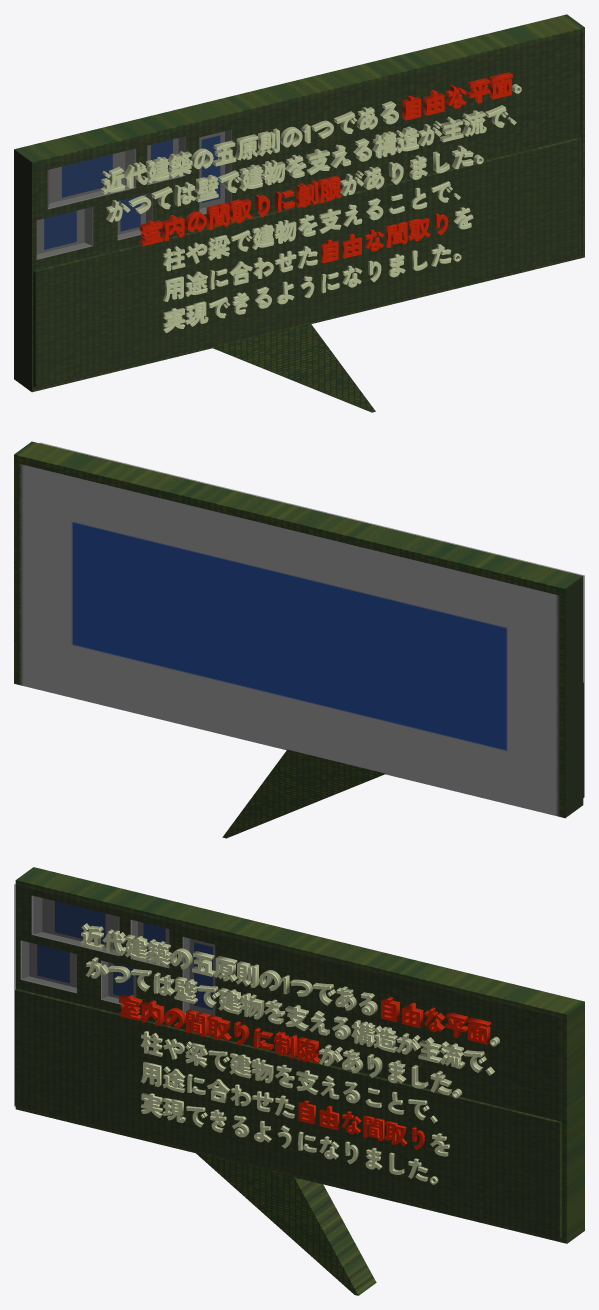
The model's file is cfukidasi-ziyuheimen.glb.
3 renders of one model, top to bottom at view 1: azimuth 30°, elevation 25°; view 2: azimuth 150°, elevation 25°; view 3: azimuth 330°, elevation 25°, orthographic.
Visible parts, largest first — view 1: 立方体.003, 立方体, 立方体.002, テキスト, 立方体.001; view 2: 立方体, 立方体.001, 立方体.003; view 3: 立方体.003, 立方体, 立方体.002, テキスト, 立方体.001.
Part boxes in pixels (x1,y1,x2,y2): 立方体.003: [33, 31, 582, 388]; 立方体: [14, 14, 584, 392]; 立方体.002: [33, 137, 581, 387]; テキスト: [101, 72, 521, 332]; 立方体.001: [211, 323, 375, 412]; 立方体: [14, 441, 583, 818]; 立方体.001: [222, 749, 385, 838]; 立方体.003: [39, 442, 584, 797]; 立方体.003: [14, 883, 561, 1239]; 立方体: [15, 867, 584, 1243]; 立方体.002: [15, 989, 561, 1238]; テキスト: [80, 923, 499, 1184]; 立方体.001: [195, 1152, 376, 1295].
Size of the model in its own units: 11.12 by 6.4 by 0.7575.
Materials: 6 (3 with a texture image).
